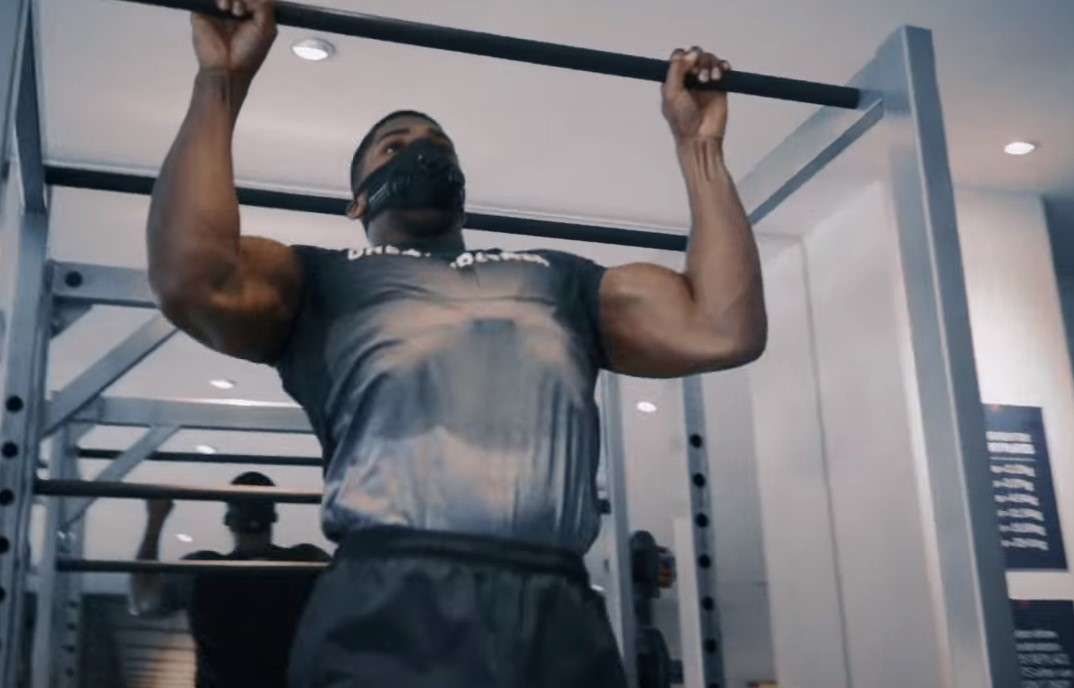face_with_mask: (343, 109, 479, 238)
